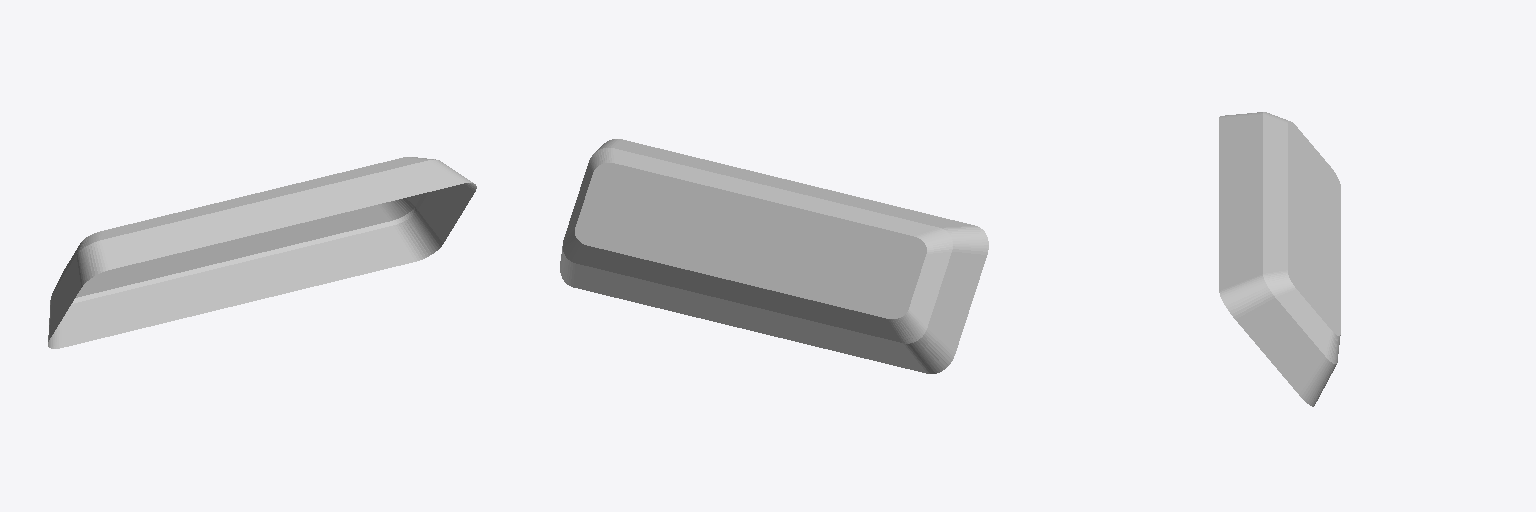
File: original-6.obj
3 renders of one model, left to right at view 1: azimuth 30°, elevation 25°; view 2: azimuth 150°, elevation 25°; view 3: azimuth 270°, elevation 25°, orthographic.
Visible parts, largest first — view 1: #ID29; view 2: #ID29; view 3: #ID29.
Part boxes in pixels (x1,y1,x2,y2): #ID29: (48, 157, 476, 348); #ID29: (560, 139, 988, 373); #ID29: (1219, 112, 1340, 406).
Size of the model in its own units: 0.391 by 0.1174 by 0.1046.